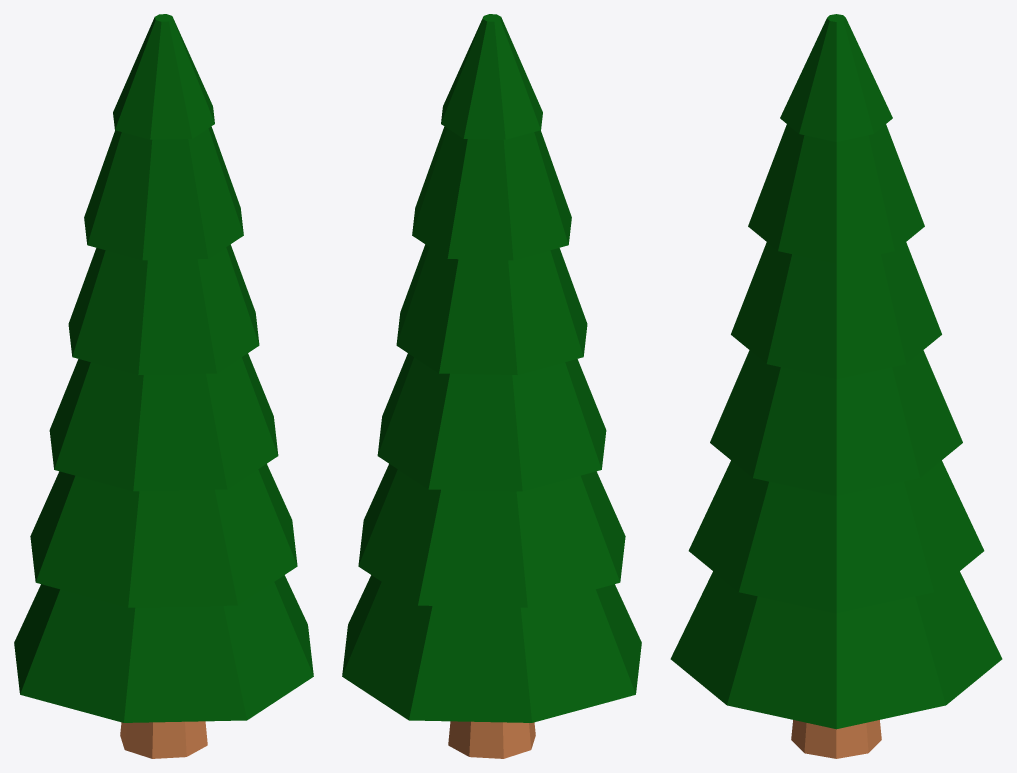
The model's file is Tree1, Short_Skinny2.fbx.
3 renders of one model, left to right at view 1: azimuth 30°, elevation 25°; view 2: azimuth 150°, elevation 25°; view 3: azimuth 270°, elevation 25°, orthographic.
Visible parts, largest first — view 1: Pine Tree; view 2: Pine Tree; view 3: Pine Tree.
Boxes of the visible parts, left/top/right/bottom form: Pine Tree: left=14, top=14, right=313, bottom=758; Pine Tree: left=342, top=14, right=641, bottom=758; Pine Tree: left=670, top=14, right=1002, bottom=758.
Size of the model in its own units: 97.94 by 235 by 97.94.
